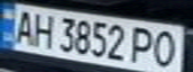2: (106, 20, 130, 62)
3: (54, 15, 78, 53)
5: (90, 19, 109, 60)
8: (72, 16, 93, 56)
A: (9, 7, 39, 46)
H: (27, 10, 57, 49)
O: (148, 27, 184, 70)
P: (127, 24, 160, 65)
